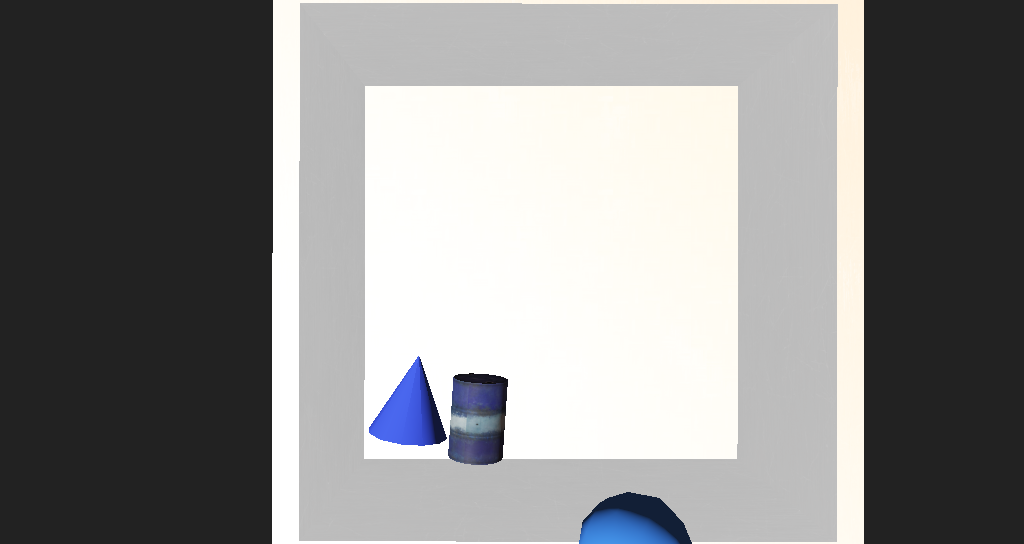cone: (418, 327, 472, 379)
cylinder: (350, 310, 431, 367)
sphere: (509, 384, 596, 446)
